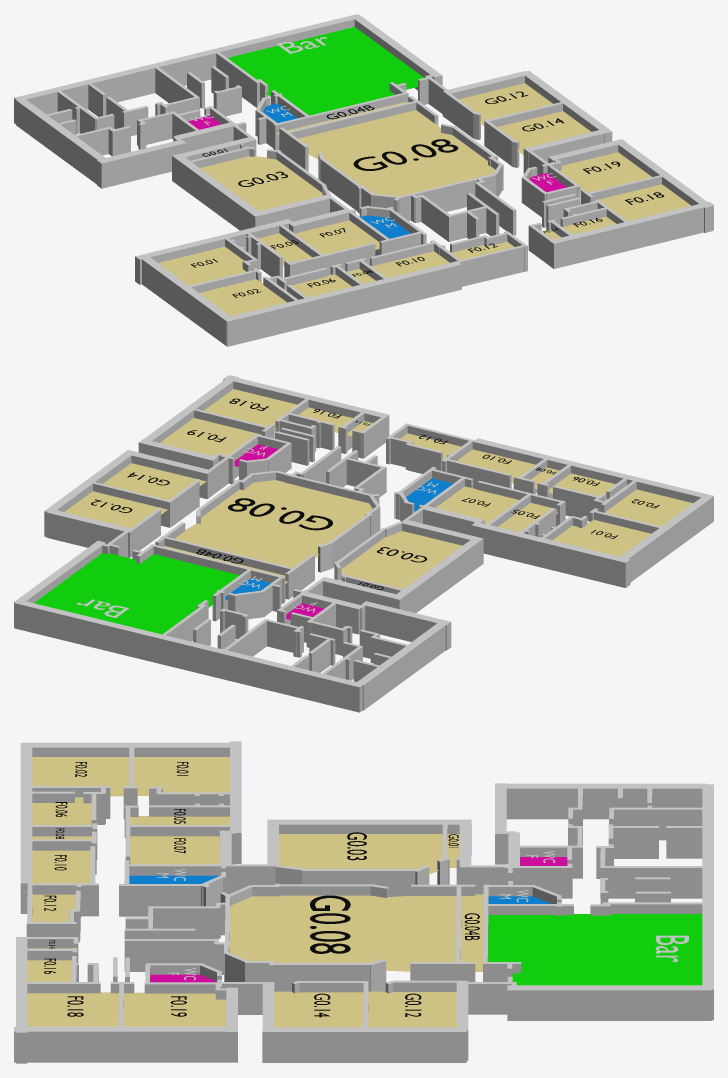
The model's file is floor_0.glb.
3 renders of one model, top to bottom at view 1: azimuth 30°, elevation 25°; view 2: azimuth 150°, elevation 25°; view 3: azimuth 270°, elevation 25°, orthographic. The views are drawn at different scales.
Parts seen in each view (by area): view 1: sala_G008, bar, Cube.001, Cube, Cube.002, sala_G003, Plane.001, Cube.014, Cube.018, Cube.017, Cube.009, sala_F019 (+51 smaller); view 2: Cube, sala_G008, Plane.001, Cube.003, bar, sala_G003, Cube.014, Cube.018, Cube.017, Cube.001, Cube.009, sala_F019 (+55 smaller); view 3: sala_G008, bar, Cube.015, Cube.019, Cube.016, Cube.018, sala_G003, sala_F019, sala_F001, sala_G014, sala_G012, sala_F018 (+69 smaller).
Boxes of the visible parts, left/top/right/bottom form: sala_G008: left=298, top=110, right=495, bottom=196; bar: left=228, top=27, right=423, bottom=113; Cube.001: left=223, top=261, right=461, bottom=346; Cube: left=14, top=14, right=361, bottom=123; Cube.002: left=549, top=201, right=713, bottom=268; sala_G003: left=200, top=156, right=322, bottom=210; Plane.001: left=231, top=37, right=394, bottom=115; Cube.014: left=142, top=257, right=233, bottom=346; Cube.018: left=16, top=98, right=106, bottom=184; Cube.017: left=172, top=154, right=262, bottom=230; Cube.009: left=97, top=139, right=186, bottom=188; sala_F019: left=559, top=152, right=651, bottom=195; Cube: left=14, top=599, right=363, bottom=712; sala_G008: left=175, top=480, right=372, bottom=567; Plane.001: left=72, top=554, right=239, bottom=634; Cube.003: left=471, top=522, right=630, bottom=587; bar: left=34, top=553, right=196, bottom=633; sala_G003: left=340, top=531, right=462, bottom=588; Cube.014: left=620, top=494, right=713, bottom=581; Cube.018: left=357, top=623, right=445, bottom=710; Cube.017: left=391, top=538, right=483, bottom=612; Cube.001: left=474, top=438, right=713, bottom=520; Cube.009: left=361, top=601, right=451, bottom=650; sala_F019: left=160, top=418, right=261, bottom=455; sala_G008: left=229, top=895, right=456, bottom=971; bar: left=512, top=914, right=702, bottom=985; Cube.015: left=14, top=1026, right=230, bottom=1062; Cube.019: left=507, top=985, right=711, bottom=1020; Cube.016: left=262, top=1027, right=466, bottom=1062; Cube.018: left=502, top=783, right=706, bottom=819; sala_G003: left=279, top=834, right=442, bottom=874; sala_F019: left=123, top=992, right=226, bottom=1026; sala_F001: left=134, top=757, right=229, bottom=795; sala_G014: left=274, top=991, right=363, bottom=1027; sala_G012: left=368, top=991, right=456, bottom=1027; sala_F018: left=27, top=992, right=118, bottom=1026.
Size of the model in its own units: 525 by 25.94 by 534.
